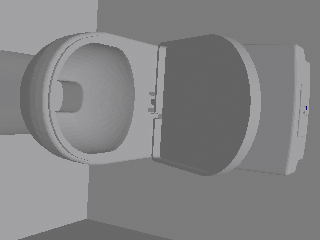lid_1: (152, 34, 260, 174)
